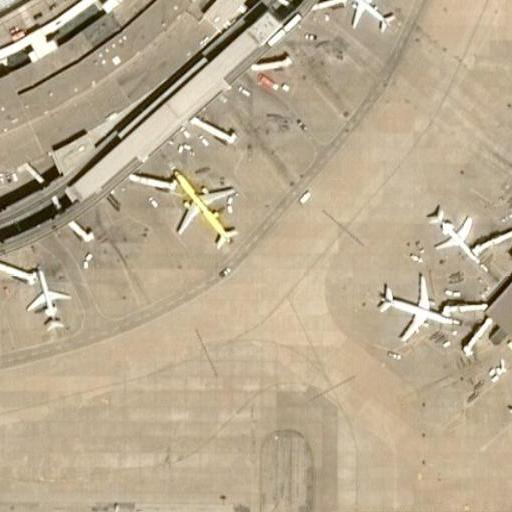Aircraft: (369, 276, 460, 349), (168, 167, 238, 255), (421, 203, 486, 264), (29, 267, 67, 337), (333, 0, 394, 35), (507, 357, 512, 428)
